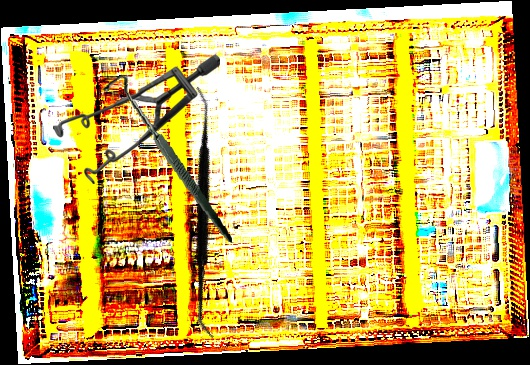Hook Surgical: (101, 62, 233, 258)
Spatula Surgical: (92, 85, 318, 340)
Speculum: (53, 53, 220, 184)
